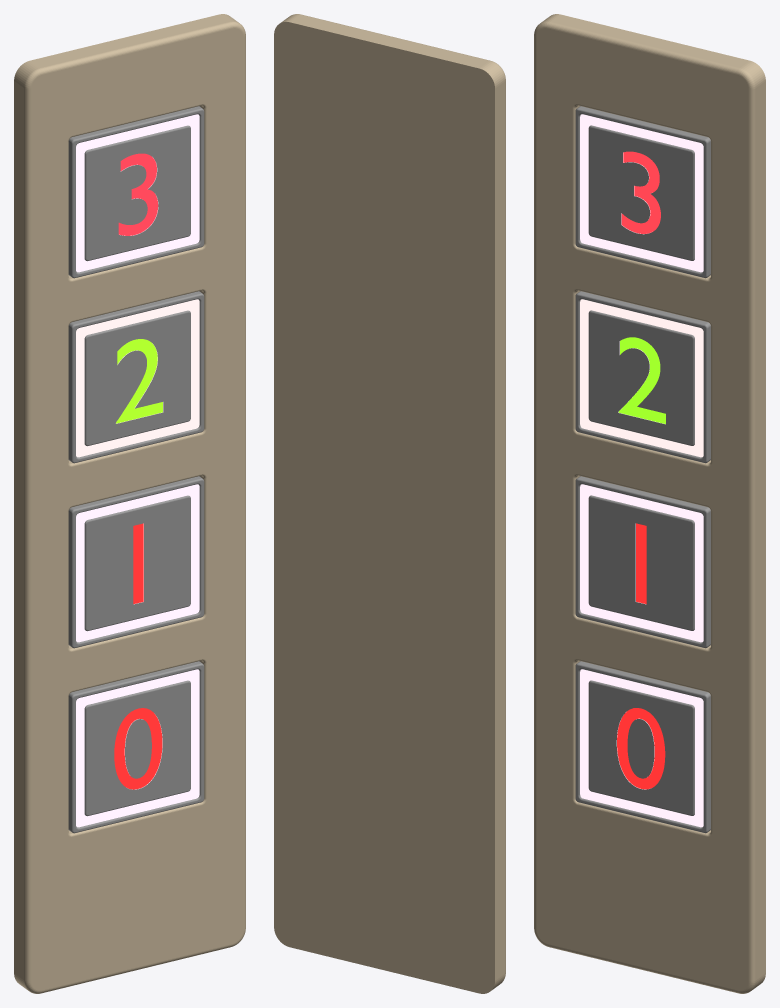
3 views of the same model, side by side, from view 1: azimuth 30°, elevation 25°; view 2: azimuth 150°, elevation 25°; view 3: azimuth 330°, elevation 25° (orthographic).
Visible parts, largest first — view 1: PANEL 1; view 2: PANEL 1; view 3: PANEL 1.
Boxes of the visible parts, x1,y1,x2,y2 form: PANEL 1: [14, 14, 245, 993]; PANEL 1: [274, 14, 505, 993]; PANEL 1: [534, 14, 765, 993].
Bounding box in the file's own units: 5 × 20 × 0.5551.
